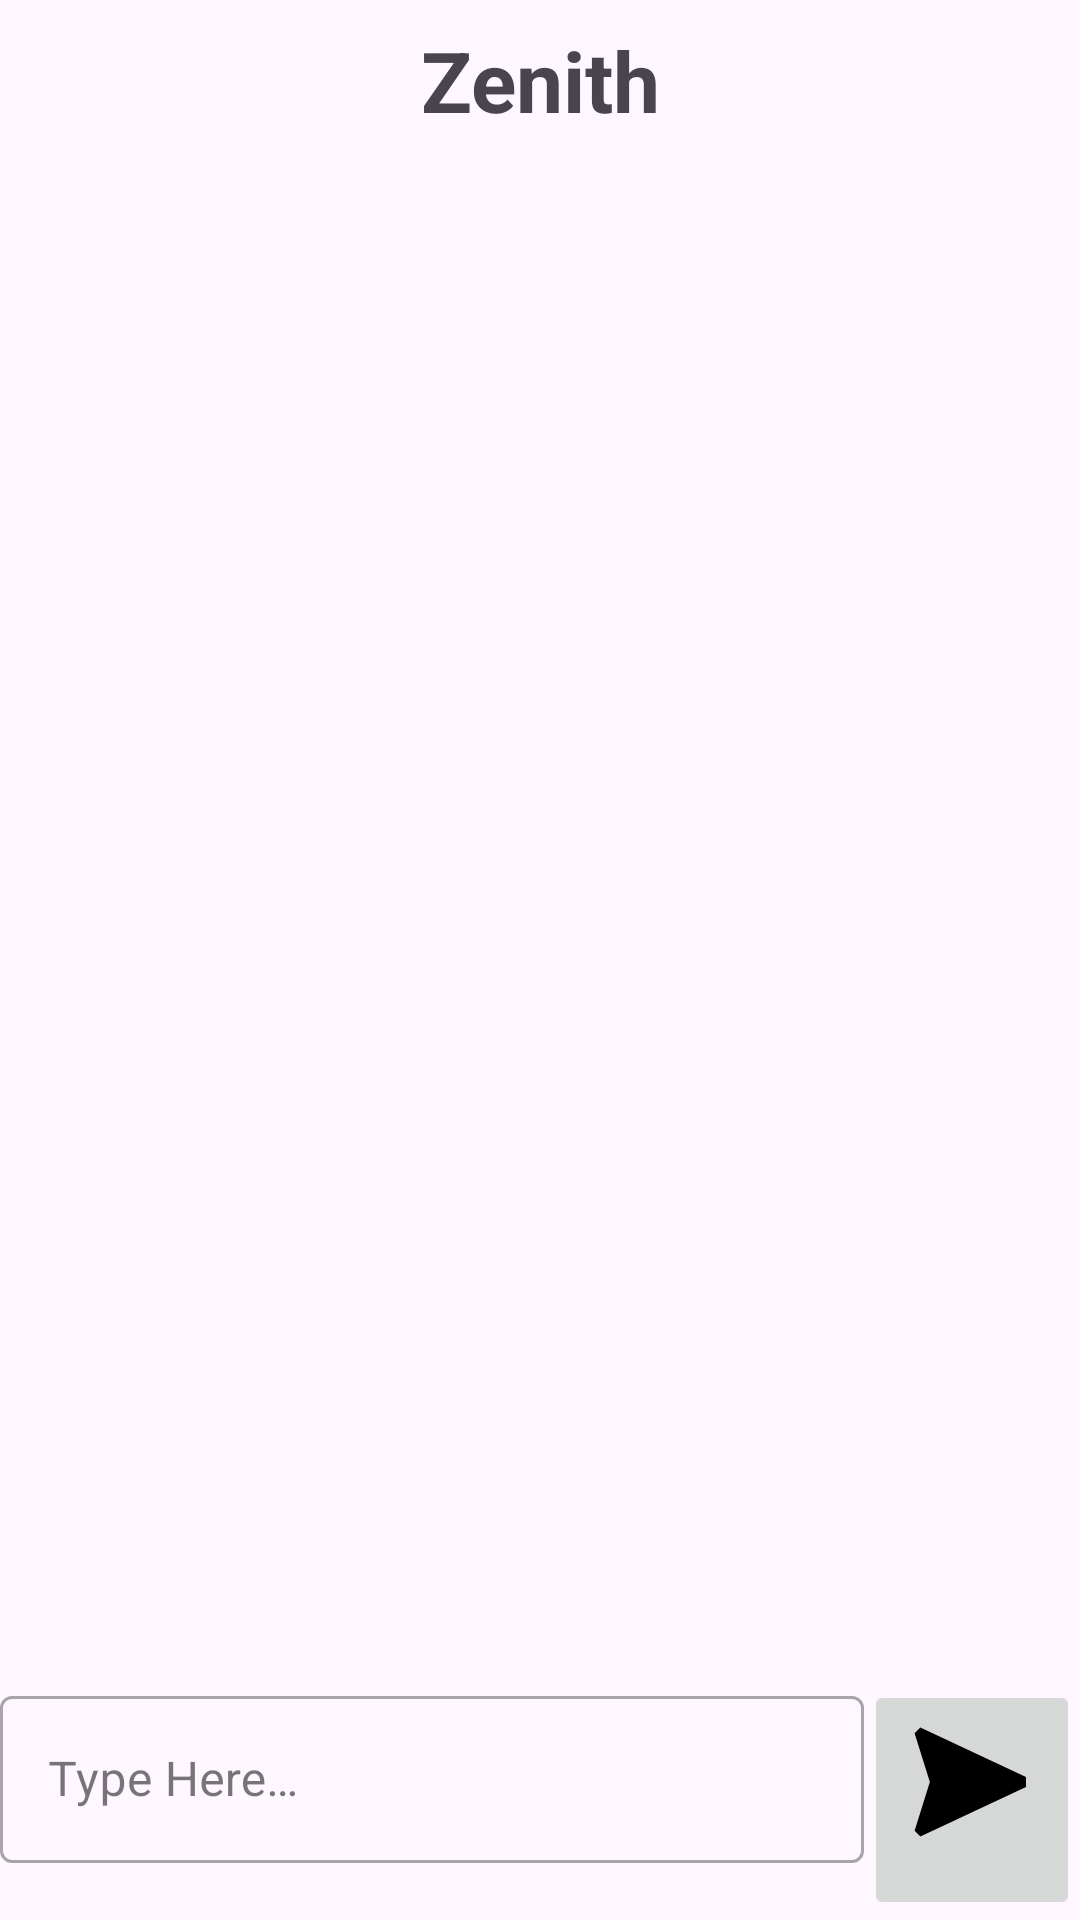

Screen size 1080 x 1920. Icon name, then its center in pixels as [x,y]:
Image button for sending the prompt: [972,1800]
